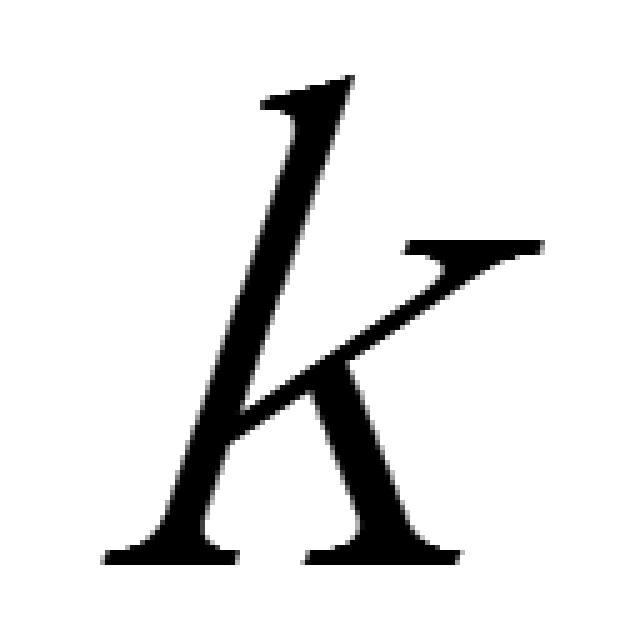K: (95, 65, 545, 570)
